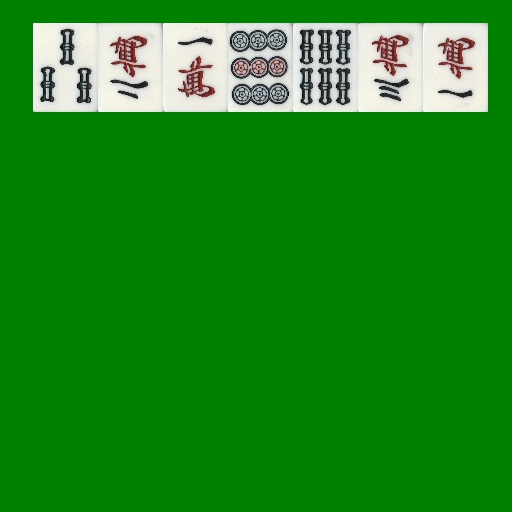1m: (163, 23, 228, 112), (423, 23, 488, 112)
2m: (98, 23, 163, 112)
3m: (358, 23, 423, 112)
3s: (33, 23, 98, 112)
6s: (293, 23, 358, 112)
9p: (228, 23, 293, 112)
